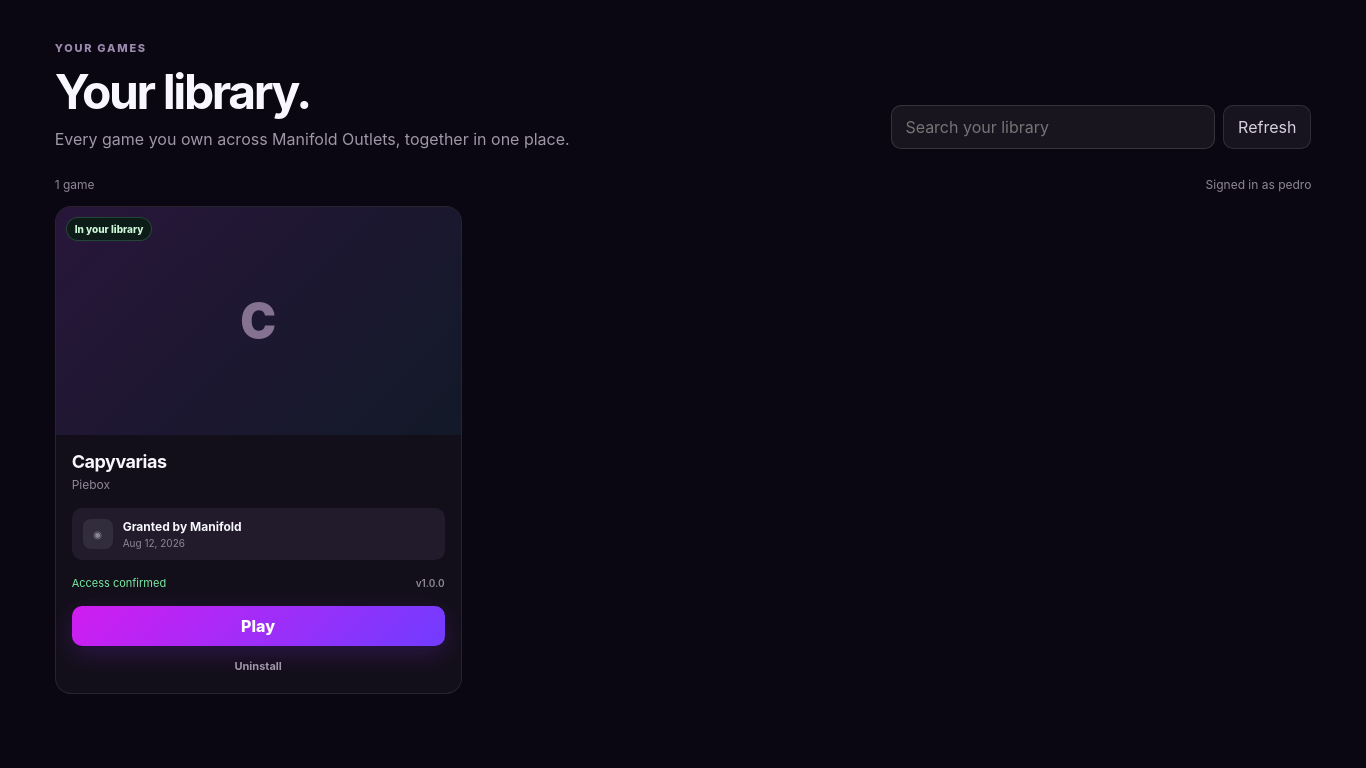
Test: does not leave Playing active when process creation fails
The width and height of the screenshot is (1366, 768).
Click the button "Play" at {"x": 258, "y": 626}, box [72, 606, 444, 646]
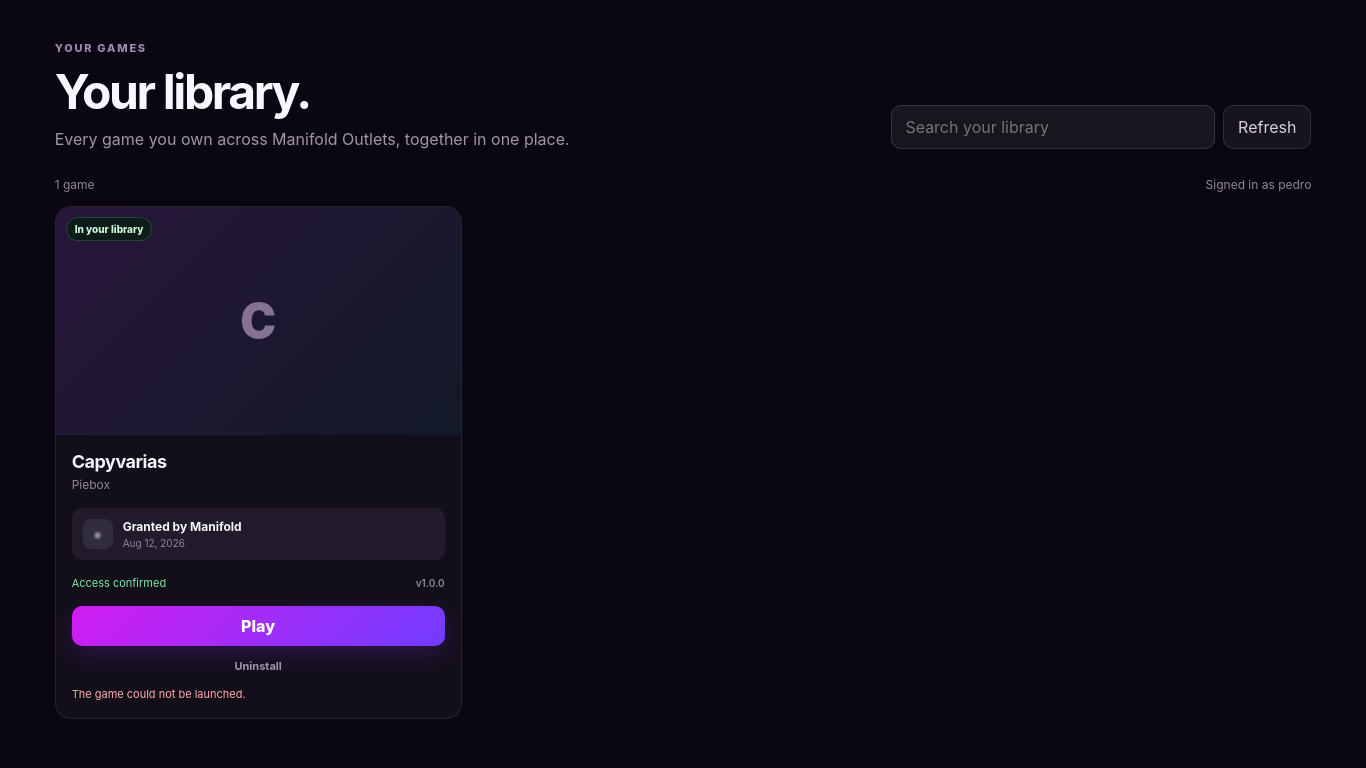
Result: the text "The game could not be launched." is shown at [72, 687, 246, 701]
